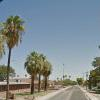Palm tree: (4, 10, 56, 96)
